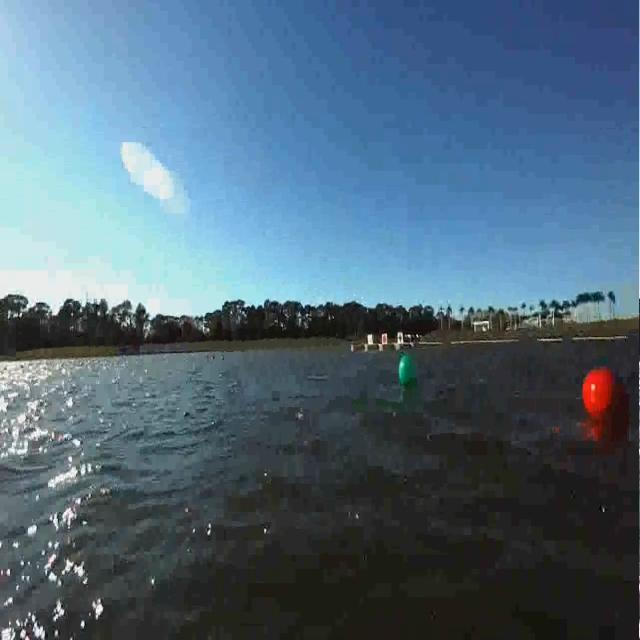green-buoy: (395, 353, 422, 396)
red-buoy: (579, 376, 617, 419)
